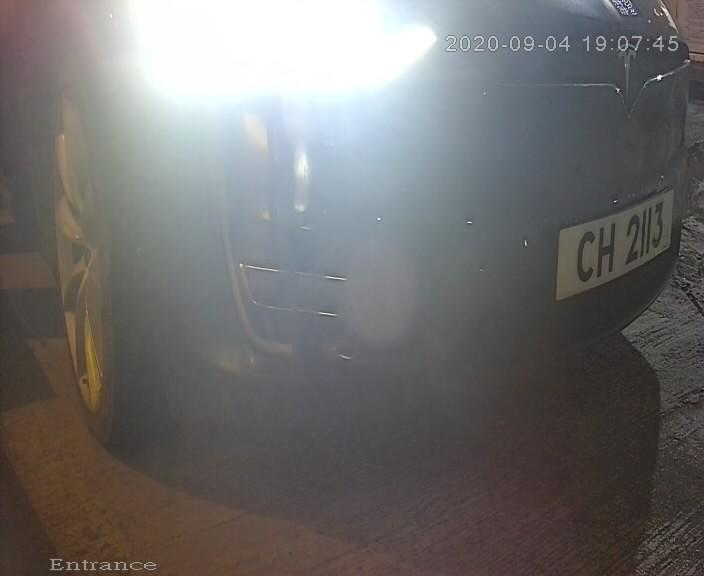License Plate: (551, 173, 676, 307)
